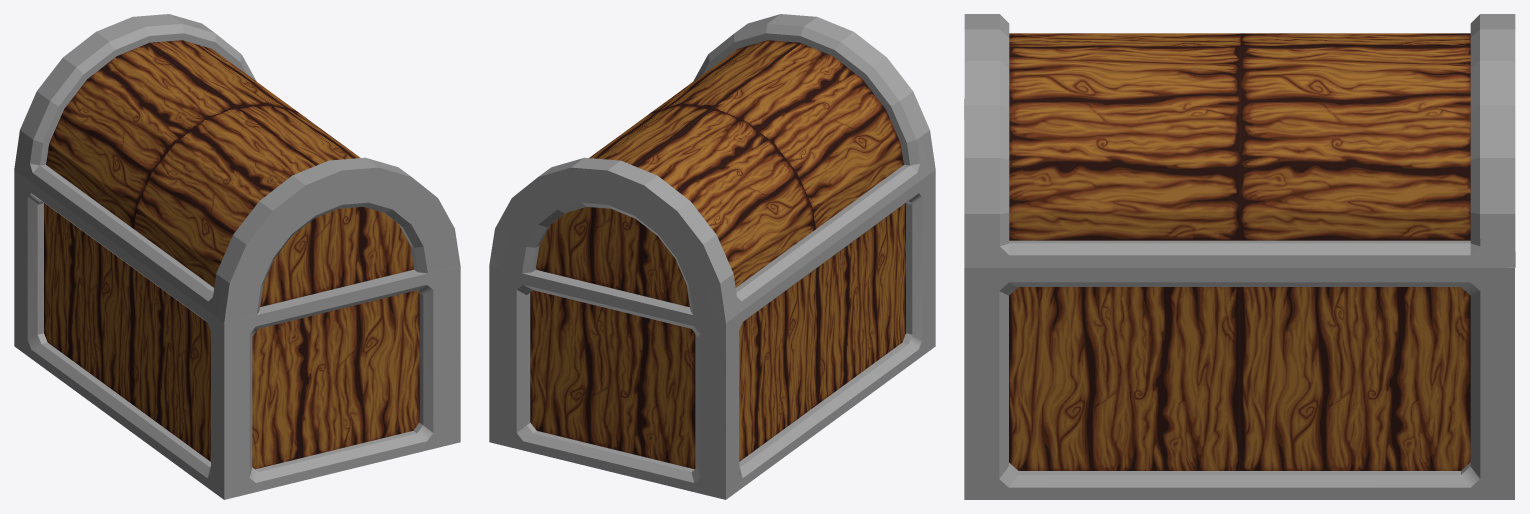
Rendered from M_Cassa.fbx.
3 views of the same model, side by side, from view 1: azimuth 30°, elevation 25°; view 2: azimuth 150°, elevation 25°; view 3: azimuth 270°, elevation 25° (orthographic). The views are drawn at different scales.
Parts seen in each view (by area): view 1: Cassa, Coperchio; view 2: Cassa, Coperchio; view 3: Coperchio, Cassa.
Boxes of the visible parts, x1,y1,x2,y2 form: Cassa: (14,170,460,499); Coperchio: (14,14,460,322); Cassa: (489,170,935,499); Coperchio: (489,14,935,322); Coperchio: (964,14,1515,267); Cassa: (964,120,1514,499).
Size of the model in its own units: 2.8 by 3.4 by 4.31.
